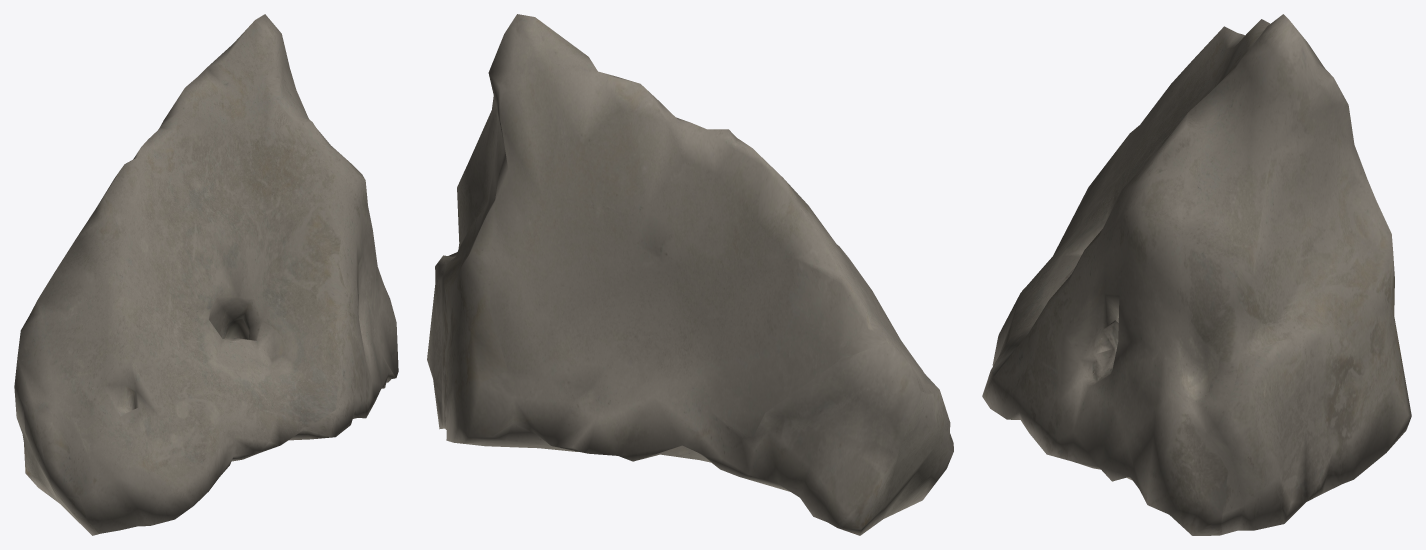
Rendered from moon_rock_07_hi.glb.
3 views of the same model, side by side, from view 1: azimuth 30°, elevation 25°; view 2: azimuth 150°, elevation 25°; view 3: azimuth 270°, elevation 25° (orthographic). The views are drawn at different scales.
Parts seen in each view (by area): view 1: moon_rock_07_hi; view 2: moon_rock_07_hi; view 3: moon_rock_07_hi.
Part boxes in pixels (box(x1,y1,x2,y2)): moon_rock_07_hi: box(14, 14, 398, 535); moon_rock_07_hi: box(427, 14, 953, 535); moon_rock_07_hi: box(982, 14, 1411, 535).
Bounding box in the file's own units: 0.9972 × 1 × 0.7637.
1 material, 1 textured.
